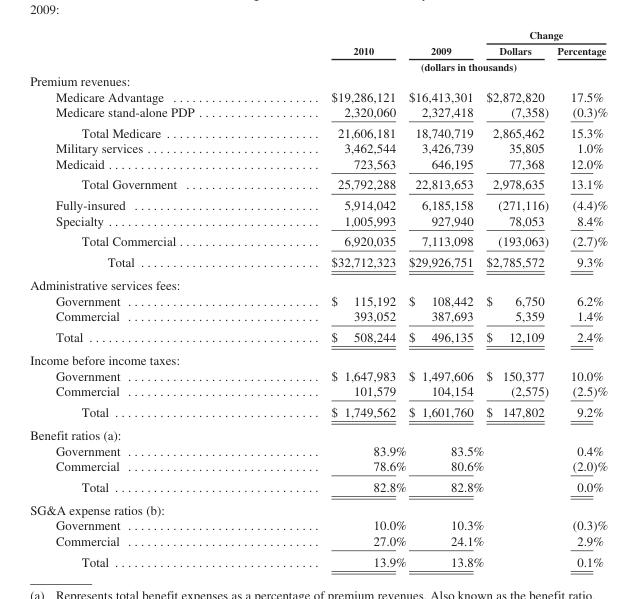table: (29, 28, 607, 568)
table column: (29, 28, 262, 568), (262, 28, 406, 568), (406, 28, 484, 568), (484, 28, 552, 568), (552, 28, 607, 568)
table column header: (29, 28, 607, 72)
table projected row header: (29, 422, 607, 442), (29, 497, 607, 517), (29, 273, 607, 292), (29, 348, 607, 367), (29, 72, 607, 88)
table row: (29, 251, 607, 273), (29, 326, 607, 348), (29, 475, 607, 497), (29, 173, 607, 194), (29, 230, 607, 251), (29, 401, 607, 422), (29, 422, 607, 442), (29, 497, 607, 517), (29, 121, 607, 140), (29, 273, 607, 292), (29, 348, 607, 367), (29, 382, 607, 401), (29, 103, 607, 121), (29, 155, 607, 173), (29, 194, 607, 212), (29, 212, 607, 230), (29, 308, 607, 326), (29, 457, 607, 475), (29, 532, 607, 550), (29, 550, 607, 568), (29, 42, 607, 58), (29, 72, 607, 88), (29, 292, 607, 308), (29, 88, 607, 103), (29, 140, 607, 155), (29, 367, 607, 382), (29, 442, 607, 457), (29, 517, 607, 532), (29, 28, 607, 42), (29, 58, 607, 72)
table spanning cell: (262, 58, 607, 72), (262, 28, 406, 58), (406, 28, 484, 58), (484, 28, 607, 42)
